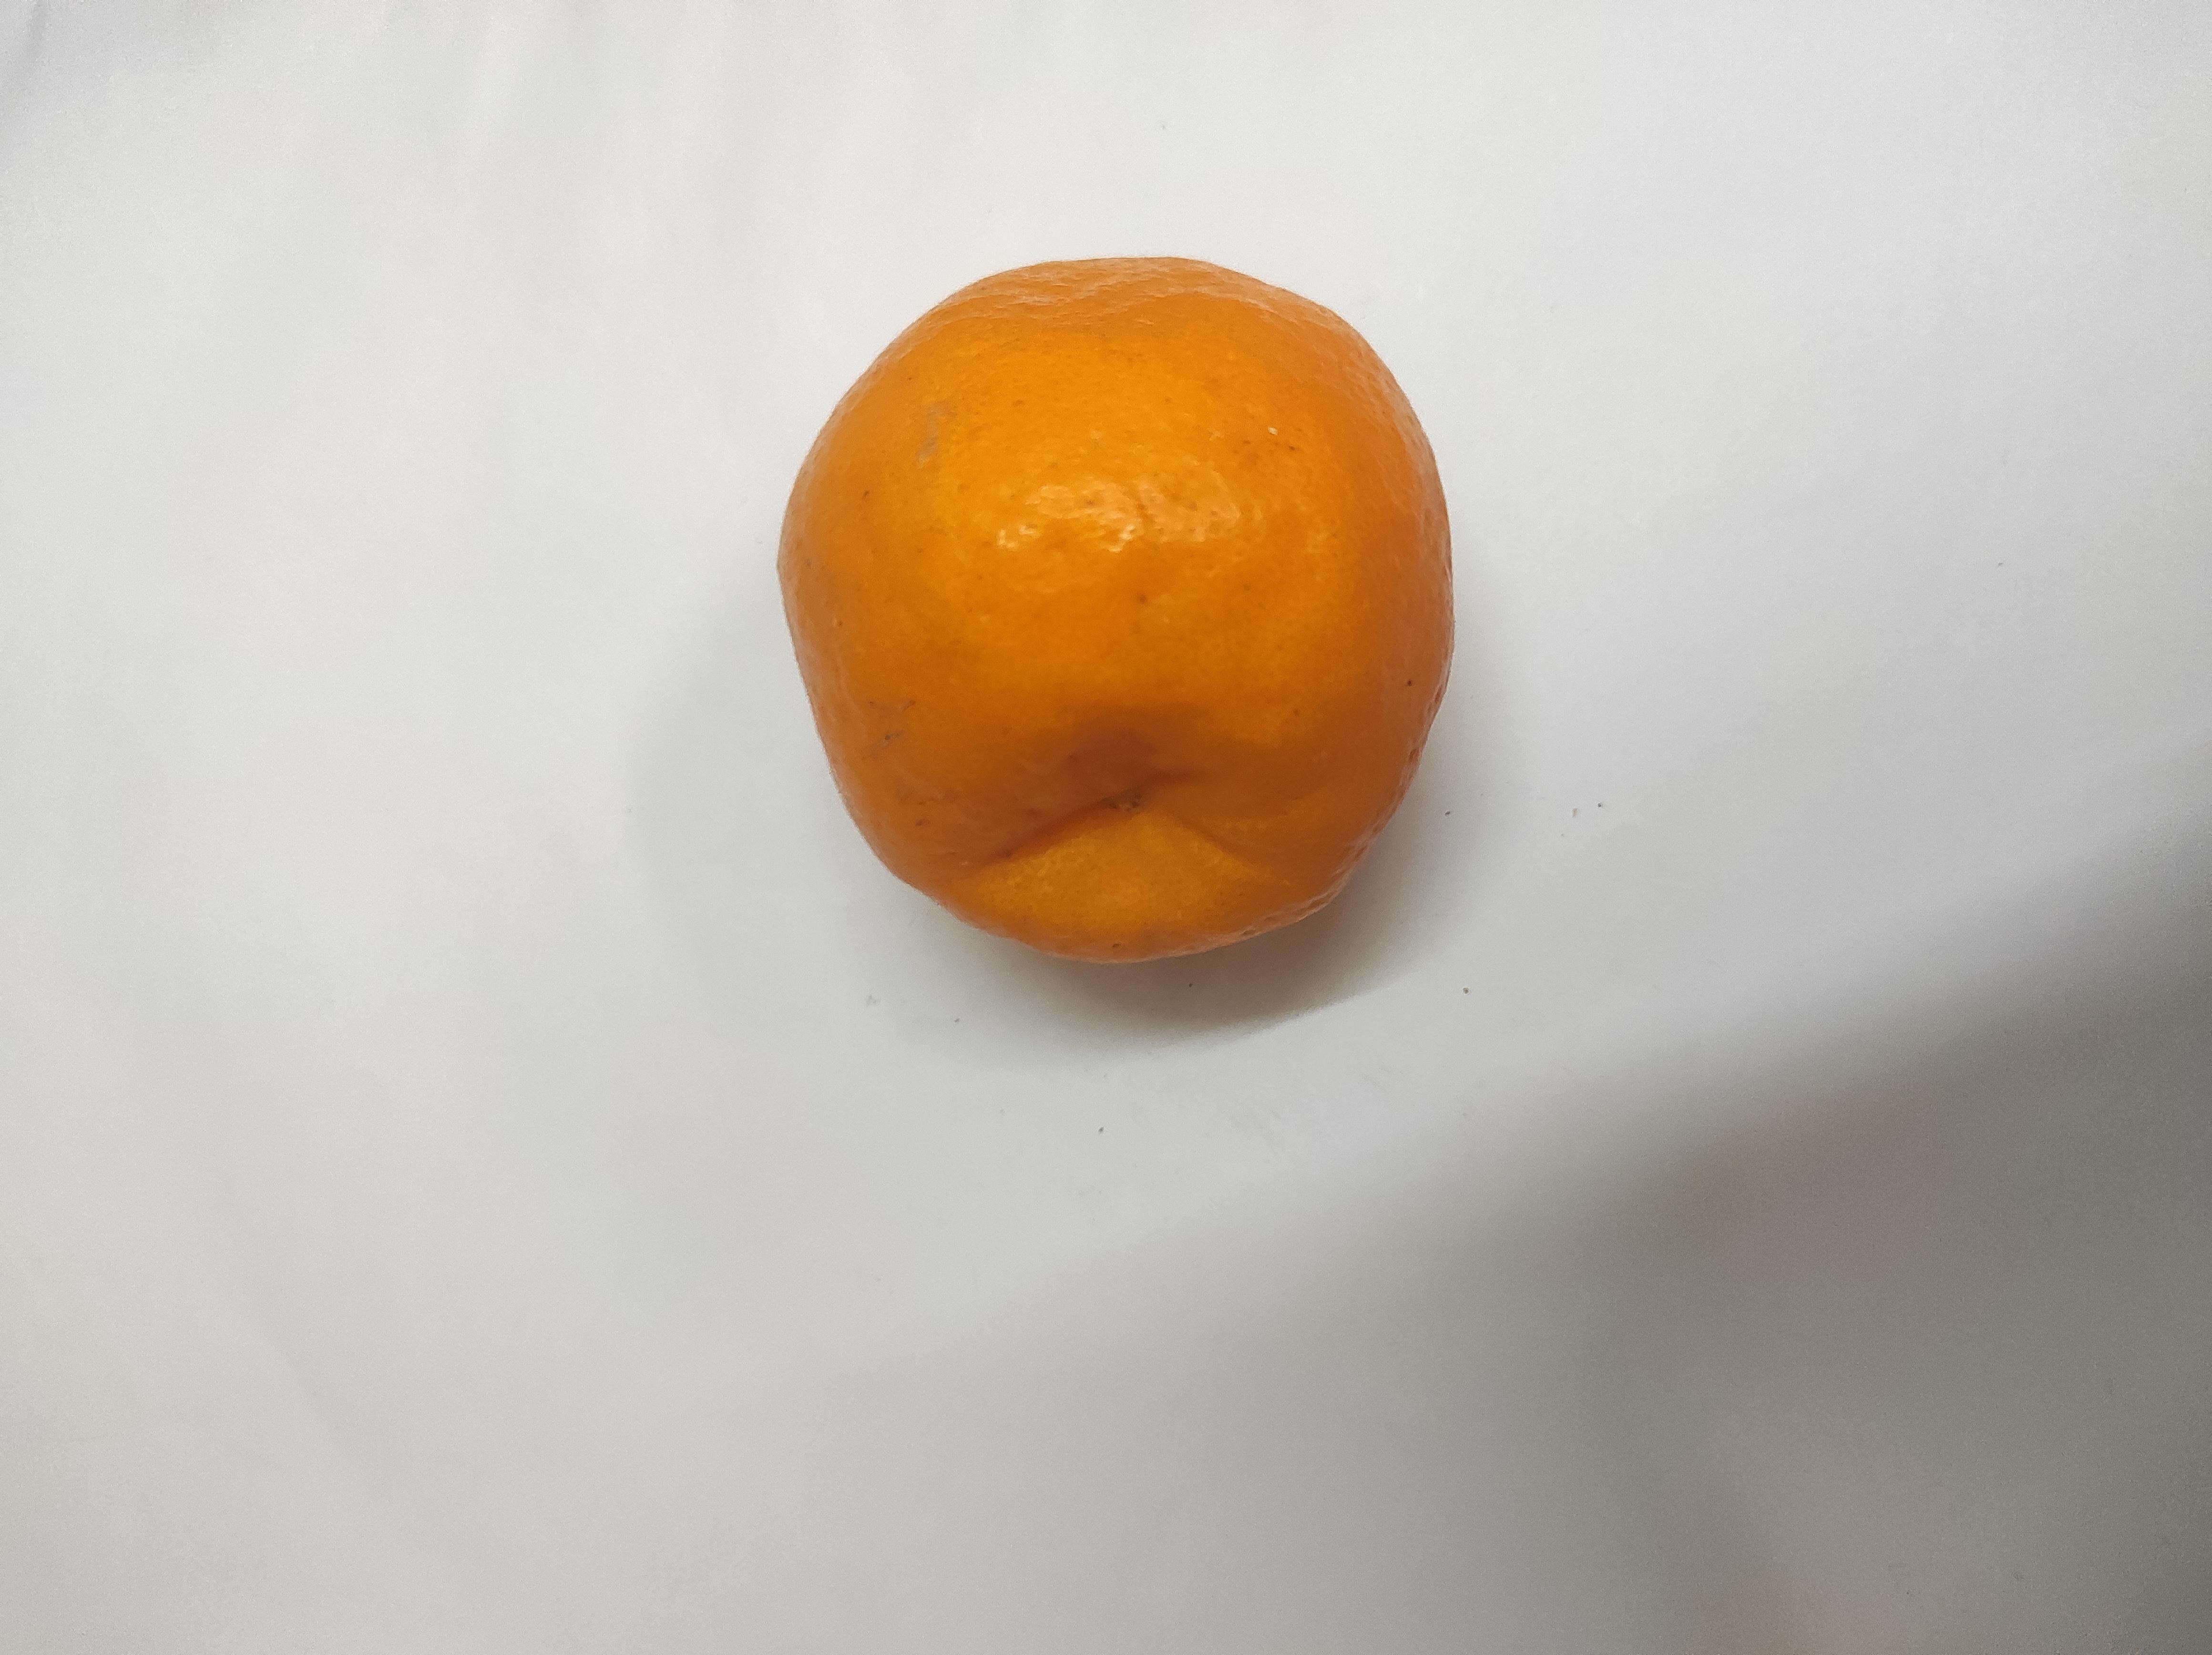Ripe: (802, 257, 1454, 958)
